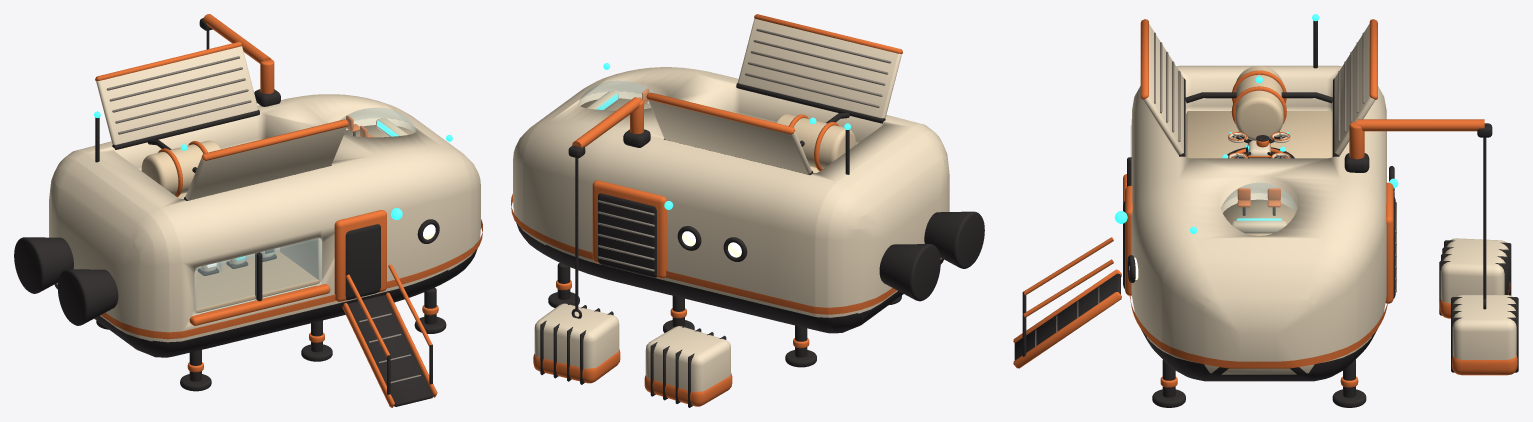
The model's file is ark-b.glb.
3 renders of one model, left to right at view 1: azimuth 30°, elevation 25°; view 2: azimuth 150°, elevation 25°; view 3: azimuth 270°, elevation 25°, orthographic. The views are drawn at different scales.
Parts seen in each view (by area): view 1: Cone; view 2: Cone; view 3: Cone.
Boxes of the visible parts, bbox=[...] form: Cone: bbox=[14, 14, 482, 407]; Cone: bbox=[511, 14, 984, 407]; Cone: bbox=[1013, 14, 1518, 407].
Bounding box in the file's own units: 2.75 × 1.53 × 2.69.
